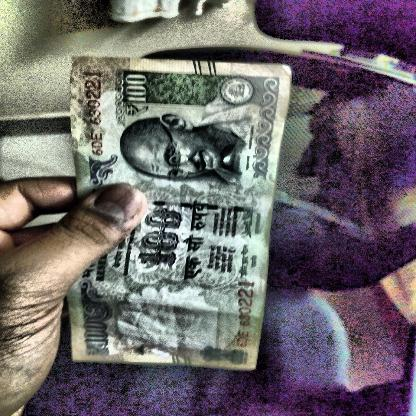Rs100: (141, 204, 185, 268), (116, 68, 158, 119), (80, 314, 118, 354)
